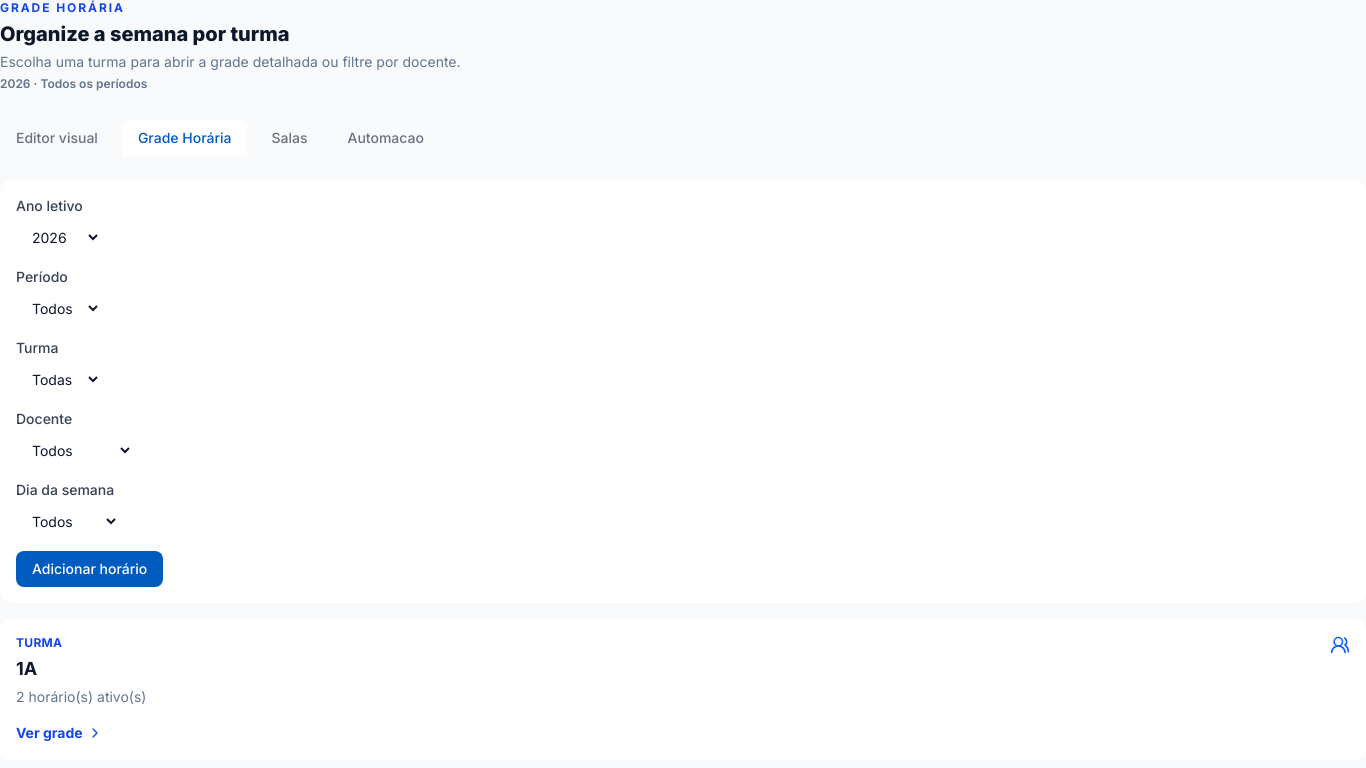
Scenario: TimetableTab › abre modal de criacao ao clicar em Adicionar horario
Click the button "Adicionar horário".
click(90, 569)  # box [16, 551, 163, 587]
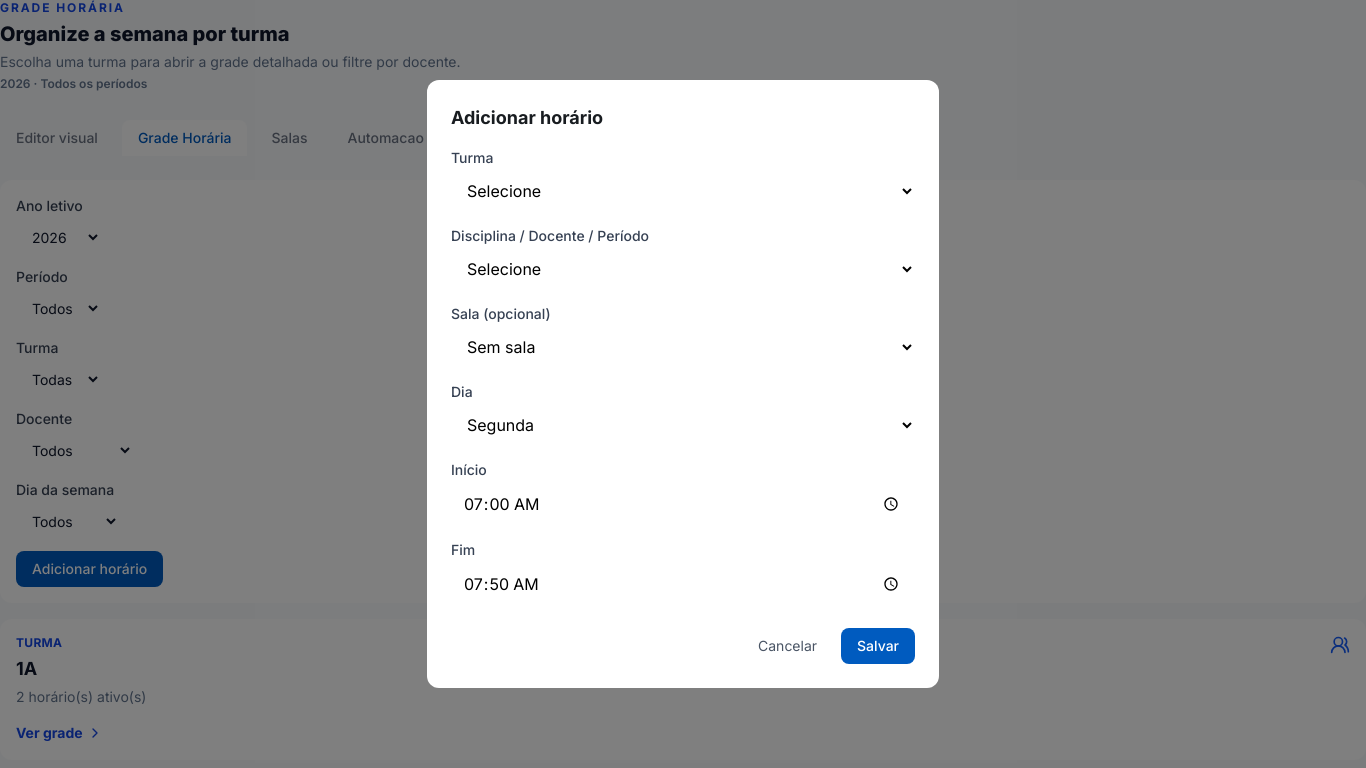
Expected: the dropdown labelled "Disciplina / Docente / Período" is shown, [451, 250, 915, 288]
